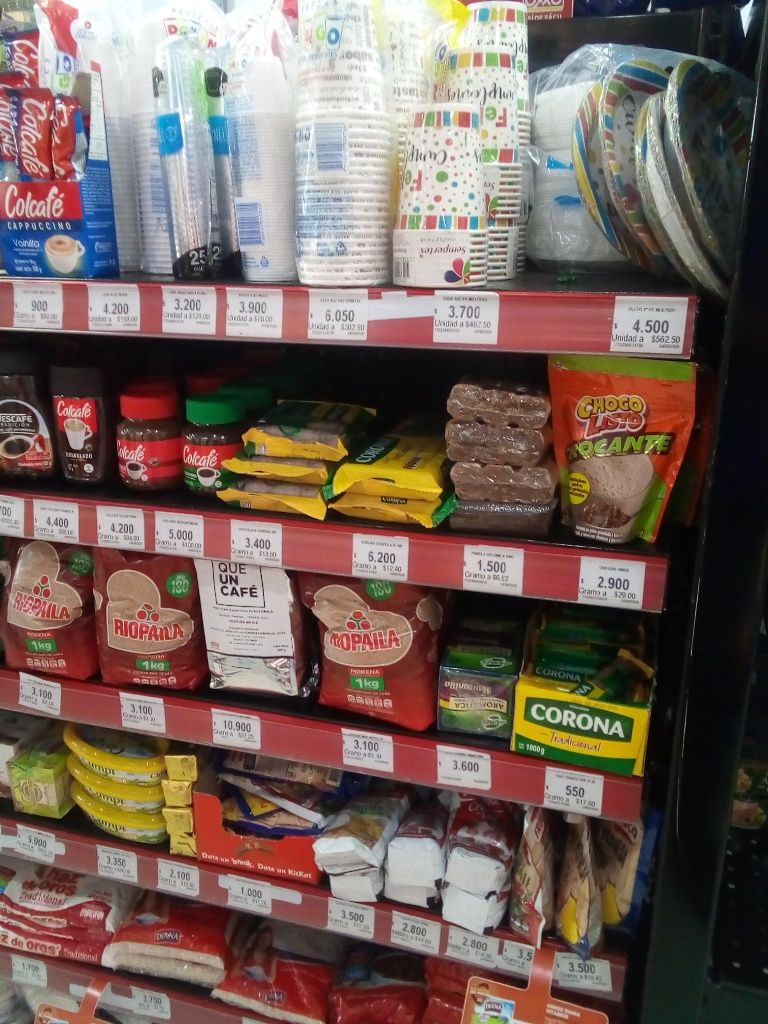COL0170102DYP10000: (550, 357, 695, 550)
